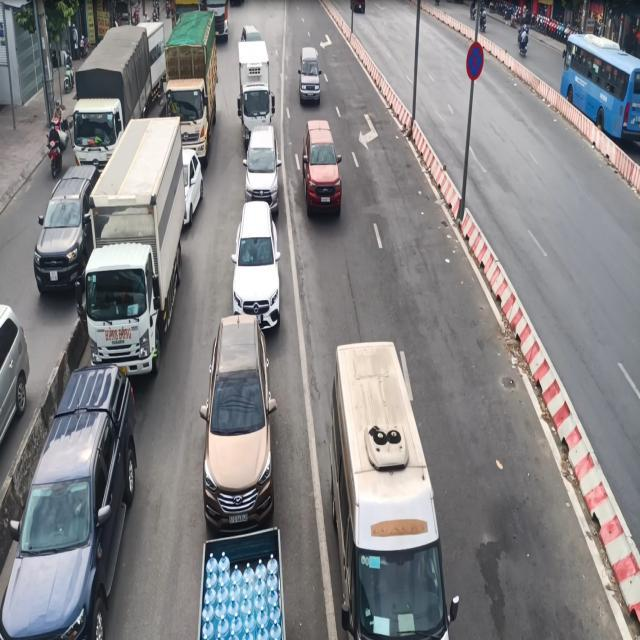bus: (559, 32, 639, 143)
car: (329, 340, 460, 639), (0, 363, 137, 639), (198, 313, 277, 532), (301, 119, 342, 217)
truck: (75, 115, 194, 377)
